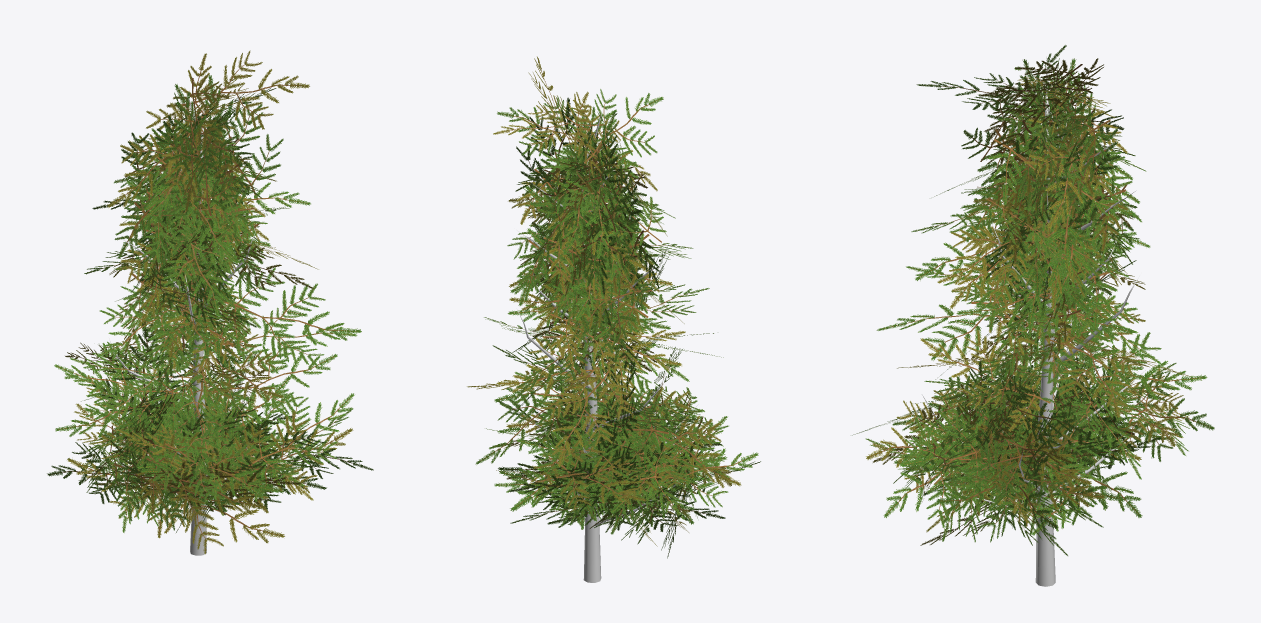
The model's file is SpruceReducedNew.fbx.
3 views of the same model, side by side, from view 1: azimuth 30°, elevation 25°; view 2: azimuth 150°, elevation 25°; view 3: azimuth 270°, elevation 25° (orthographic). The views are drawn at different scales.
Visible parts, largest first — view 1: Tree_Spruce_ReducedNew_LOD0; view 2: Tree_Spruce_ReducedNew_LOD0; view 3: Tree_Spruce_ReducedNew_LOD0.
Boxes of the visible parts, x1=… form: Tree_Spruce_ReducedNew_LOD0: x1=47, y1=50, x2=373, y2=555; Tree_Spruce_ReducedNew_LOD0: x1=467, y1=56, x2=760, y2=582; Tree_Spruce_ReducedNew_LOD0: x1=852, y1=45, x2=1214, y2=586.
Size of what is drawn, in the model's own units: 923 by 1520 by 981.
